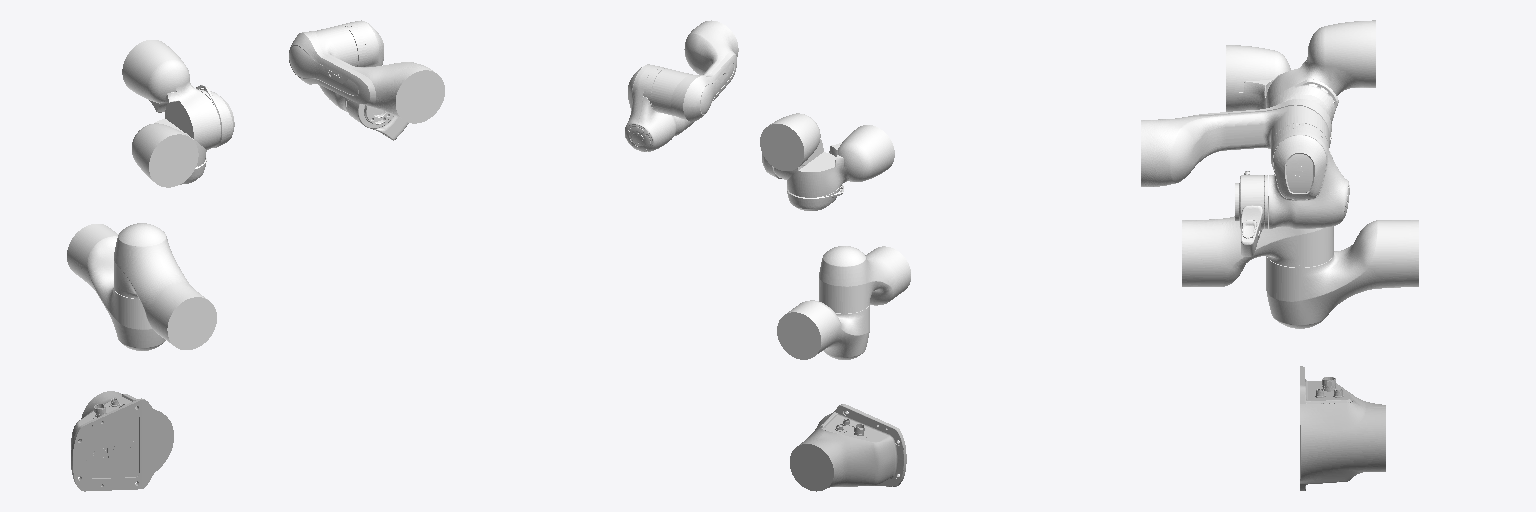
robot.urdf — panda:
<?xml version="1.0" ?>

<robot name="panda" xmlns:xacro="http://www.ros.org/wiki/xacro">
  
  <link name="panda_link0">
    <visual>
      <geometry>
        <mesh filename="package://panda/meshes/visual/link0.stl"/>
      </geometry>
      <material name="panda_gray"/>
    </visual>
    <collision>
      <geometry>
        <mesh filename="package://panda/meshes/collision/link0.stl"/>
      </geometry>
      <material name="panda_gray"/>
    </collision>
    <inertial>
        <origin rpy="0 0 0" xyz="0 0 0"/>
        <mass value="2.8142028896"/>
        <inertia ixx="0.0129886979" ixy="0.0" ixz="0.0" iyy="0.0165355284" iyz="0" izz="0.0203311636"/>    </inertial>
  </link>
  
  <link name="panda_link1">
    <visual>
      <geometry>
        <mesh filename="package://panda/meshes/visual/link1.stl"/>
      </geometry>
      <material name="panda_white"/>
    </visual>
    <collision>
      <geometry>
        <mesh filename="package://panda/meshes/collision/link1.stl"/>
      </geometry>
      <material name="panda_white"/>
    </collision>
    <inertial>
      <origin rpy="0 0 0" xyz="0 0 0"/>
      <mass value="2.3599995791"/>
      <inertia ixx="0.0186863903" ixy="0.0" ixz="0.0" iyy="0.0143789874" iyz="0" izz="0.00906812"/>
    </inertial>
  </link>
  
  <joint name="panda_joint1" type="revolute">
    <safety_controller k_position="100.0" k_velocity="40.0" soft_lower_limit="-2.8973" soft_upper_limit="2.8973"/>
    <origin rpy="0 0 0" xyz="0 0 0.333"/>
    <parent link="panda_link0"/>
    <child link="panda_link1"/>
    <axis xyz="0 0 1"/>
    <limit effort="87" lower="-2.8973" upper="2.8973" velocity="2.1750"/>
    <dynamics damping="1.0"/>
  </joint>
  
  <link name="panda_link2">
    <visual>
      <geometry>
        <mesh filename="package://panda/meshes/visual/link2.stl"/>
      </geometry>
      <material name="panda_white"/>
    </visual>
    <collision>
      <geometry>
        <mesh filename="package://panda/meshes/collision/link2.stl"/>
      </geometry>
      <material name="panda_white"/>
    </collision>
    <inertial>
      <origin rpy="0 0 0" xyz="0 0 0"/>
      <mass value="2.379518833"/>
      <inertia ixx="0.0190388734" ixy="0.0" ixz="0.0" iyy="0.0091429124" iyz="0" izz="0.014697537"/>
    </inertial>
  </link>
  
  <joint name="panda_joint2" type="revolute">
    <safety_controller k_position="100.0" k_velocity="40.0" soft_lower_limit="-1.7628" soft_upper_limit="1.7628"/>
    <origin rpy="-1.57079632679 0 0" xyz="0 0 0"/>
    <parent link="panda_link1"/>
    <child link="panda_link2"/>
    <axis xyz="0 0 1"/>
    <limit effort="87" lower="-1.7628" upper="1.7628" velocity="2.1750"/>
    <dynamics damping="1.0"/>
  </joint>
  
  <link name="panda_link3">
    <visual>
      <geometry>
        <mesh filename="package://panda/meshes/visual/link3.stl"/>
      </geometry>
      <material name="panda_white"/>
    </visual>
    <collision>
      <geometry>
        <mesh filename="package://panda/meshes/collision/link3.stl"/>
      </geometry>
      <material name="panda_white"/>
    </collision>
    <inertial>
      <origin rpy="0 0 0" xyz="0 0 0"/>
      <mass value="2.6498823337"/>
      <inertia ixx="0.0129300178" ixy="0.0" ixz="0.0" iyy="0.0150242121" iyz="0" izz="0.0142734598"/>
    </inertial>
  </link>
  
  <joint name="panda_joint3" type="revolute">
    <safety_controller k_position="100.0" k_velocity="40.0" soft_lower_limit="-2.8973" soft_upper_limit="2.8973"/>
    <origin rpy="1.57079632679 0 0" xyz="0 -0.316 0"/>
    <parent link="panda_link2"/>
    <child link="panda_link3"/>
    <axis xyz="0 0 1"/>
    <limit effort="87" lower="-2.8973" upper="2.8973" velocity="2.1750"/>
    <dynamics damping="1.0"/>
  </joint>
  
  <link name="panda_link4">
    <visual>
      <geometry>
        <mesh filename="package://panda/meshes/visual/link4.stl"/>
      </geometry>
      <material name="panda_white"/>
    </visual>
    <collision>
      <geometry>
        <mesh filename="package://panda/meshes/collision/link4.stl"/>
      </geometry>
      <material name="panda_white"/>
    </collision>
    <inertial>
      <origin rpy="0 0 0" xyz="0 0 0"/>
      <mass value="2.6948018744"/>
      <inertia ixx="0.0133874611" ixy="0.0" ixz="0.0" iyy="0.014514325" iyz="0" izz="0.0155175551"/>
    </inertial>
  </link>
  
  <joint name="panda_joint4" type="revolute">
    <safety_controller k_position="100.0" k_velocity="40.0" soft_lower_limit="-3.0718" soft_upper_limit="-0.0698"/>
    <origin rpy="1.57079632679 0 0" xyz="0.0825 0 0"/>
    <parent link="panda_link3"/>
    <child link="panda_link4"/>
    <axis xyz="0 0 1"/>
    <limit effort="87" lower="-3.0718" upper="-0.0698" velocity="2.1750"/>
    <dynamics damping="1.0"/>
  </joint>
  
  <link name="panda_link5">
    <visual>
      <geometry>
        <mesh filename="package://panda/meshes/visual/link5.stl"/>
      </geometry>
      <material name="panda_white"/>
    </visual>
    <collision>
      <geometry>
        <mesh filename="package://panda/meshes/collision/link5.stl"/>
      </geometry>
      <material name="panda_white"/>
    </collision>
    <inertial>
      <origin rpy="0 0 0" xyz="0 0 0"/>
      <mass value="2.9812816864"/>
      <inertia ixx="0.0325565705" ixy="0.0" ixz="0.0" iyy="0.0270660472" iyz="0" izz="0.0115023375"/>
    </inertial>
  </link>
  
  <joint name="panda_joint5" type="revolute">
    <safety_controller k_position="100.0" k_velocity="40.0" soft_lower_limit="-2.8973" soft_upper_limit="2.8973"/>
    <origin rpy="-1.57079632679 0 0" xyz="-0.0825 0.384 0"/>
    <parent link="panda_link4"/>
    <child link="panda_link5"/>
    <axis xyz="0 0 1"/>
    <limit effort="12" lower="-2.8973" upper="2.8973" velocity="2.6100"/>
    <dynamics damping="1.0"/>
  </joint>
  
  <link name="panda_link6">
    <visual>
      <geometry>
        <mesh filename="package://panda/meshes/visual/link6.stl"/>
      </geometry>
      <material name="panda_white"/>
    </visual>
    <collision>
      <geometry>
        <mesh filename="package://panda/meshes/collision/link6.stl"/>
      </geometry>
      <material name="panda_white"/>
    </collision>
    <inertial>
      <origin rpy="0 0 0" xyz="0 0 0"/>
      <mass value="1.1285806309"/>
      <inertia ixx="0.0026052565" ixy="0.0" ixz="0.0" iyy="0.0039897229" iyz="0" izz="0.0047048591"/>
    </inertial>
  </link>
  
  <joint name="panda_joint6" type="revolute">
    <safety_controller k_position="100.0" k_velocity="40.0" soft_lower_limit="-0.0175" soft_upper_limit="3.7525"/>
    <origin rpy="1.57079632679 0 0" xyz="0 0 0"/>
    <parent link="panda_link5"/>
    <child link="panda_link6"/>
    <axis xyz="0 0 1"/>
    <limit effort="12" lower="-0.0175" upper="3.752" velocity="2.6100"/>
    <dynamics damping="1.0"/>
  </joint>
  
  <link name="panda_link7">
    <visual>
      <geometry>
        <mesh filename="package://panda/meshes/visual/link7.stl"/>
      </geometry>
      <material name="panda_white"/>
    </visual>
    <collision>
      <geometry>
        <mesh filename="package://panda/meshes/collision/link7.stl"/>
      </geometry>
      <material name="panda_white"/>
    </collision>
    <inertial>
      <origin rpy="0 0 0" xyz="0 0 0"/>
      <mass value="0.4052912465"/>
      <inertia ixx="0.0006316592" ixy="0.0" ixz="0.0" iyy="0.0006319639" iyz="0" izz="0.0010607721"/>
    </inertial>
  </link>
  
  <joint name="panda_joint7" type="revolute">
    <safety_controller k_position="100.0" k_velocity="40.0" soft_lower_limit="-2.8973" soft_upper_limit="2.8973"/>
    <origin rpy="1.57079632679 0 0" xyz="0.088 0 0"/>
    <parent link="panda_link6"/>
    <child link="panda_link7"/>
    <axis xyz="0 0 1"/>
    <limit effort="12" lower="-2.8973" upper="2.8973" velocity="2.6100"/>
    <dynamics damping="1.0"/>
  </joint>
  
  <!-- FLANGE -->
  <link name="panda_EndEffector"></link>

  <joint name="panda_joint8" type="fixed">
    <origin rpy="0 0 0" xyz="0 0 0.107"/>
    <parent link="panda_link7"/>
    <child link="panda_EndEffector"/>
    <axis xyz="0 0 0"/>
  </joint>
    
  


  <material name="panda_white">
    <color rgba="1. 1. 1. 1."/>
  </material>
  <material name="panda_gray">
    <color rgba=".8 .8 .8 1."/>
  </material>
</robot>

--- Render facts (derived) ---
The picture shows the robot from 3 angles, left to right: view 1: azimuth 30°, elevation 25°; view 2: azimuth 150°, elevation 25°; view 3: azimuth 270°, elevation 25°; orthographic projection.
Robot: panda — 9 links, 8 joints (7 revolute, 1 fixed); root link panda_link0; default pose: joints at zero except 1 at the middle of their limits (panda_joint4 = -1.57).
Visible links, largest first — view 1: panda_link0, panda_link5, panda_link1, panda_link4, panda_link2, panda_link3, panda_link6, panda_link7; view 2: panda_link0, panda_link5, panda_link3, panda_link1, panda_link2, panda_link4, panda_link6; view 3: panda_link2, panda_link5, panda_link0, panda_link6, panda_link1, panda_link4, panda_link3, panda_link7.
Boxes of the visible links, left/top/right/bottom form: panda_link0: left=71, top=391, right=173, bottom=491; panda_link5: left=289, top=25, right=444, bottom=123; panda_link1: left=114, top=223, right=216, bottom=349; panda_link4: left=122, top=40, right=234, bottom=149; panda_link2: left=67, top=224, right=165, bottom=350; panda_link3: left=132, top=119, right=206, bottom=187; panda_link6: left=319, top=20, right=383, bottom=116; panda_link7: left=347, top=99, right=408, bottom=140; panda_link0: left=790, top=404, right=906, bottom=491; panda_link5: left=651, top=20, right=738, bottom=121; panda_link3: left=787, top=125, right=894, bottom=210; panda_link1: left=819, top=246, right=910, bottom=313; panda_link2: left=777, top=300, right=869, bottom=359; panda_link4: left=760, top=113, right=823, bottom=179; panda_link6: left=625, top=64, right=685, bottom=151; panda_link2: left=1266, top=220, right=1418, bottom=328; panda_link5: left=1141, top=99, right=1331, bottom=186; panda_link0: left=1300, top=366, right=1385, bottom=490; panda_link6: left=1269, top=123, right=1349, bottom=228; panda_link1: left=1182, top=196, right=1333, bottom=286; panda_link4: left=1266, top=20, right=1375, bottom=123; panda_link3: left=1226, top=45, right=1331, bottom=147; panda_link7: left=1235, top=171, right=1267, bottom=256.
Size in the robot's own frame: 0.7019 by 0.453 by 0.8811 metres.
Meshes: 8 distinct files referenced, 8 mesh visuals loaded (8 binary STL).